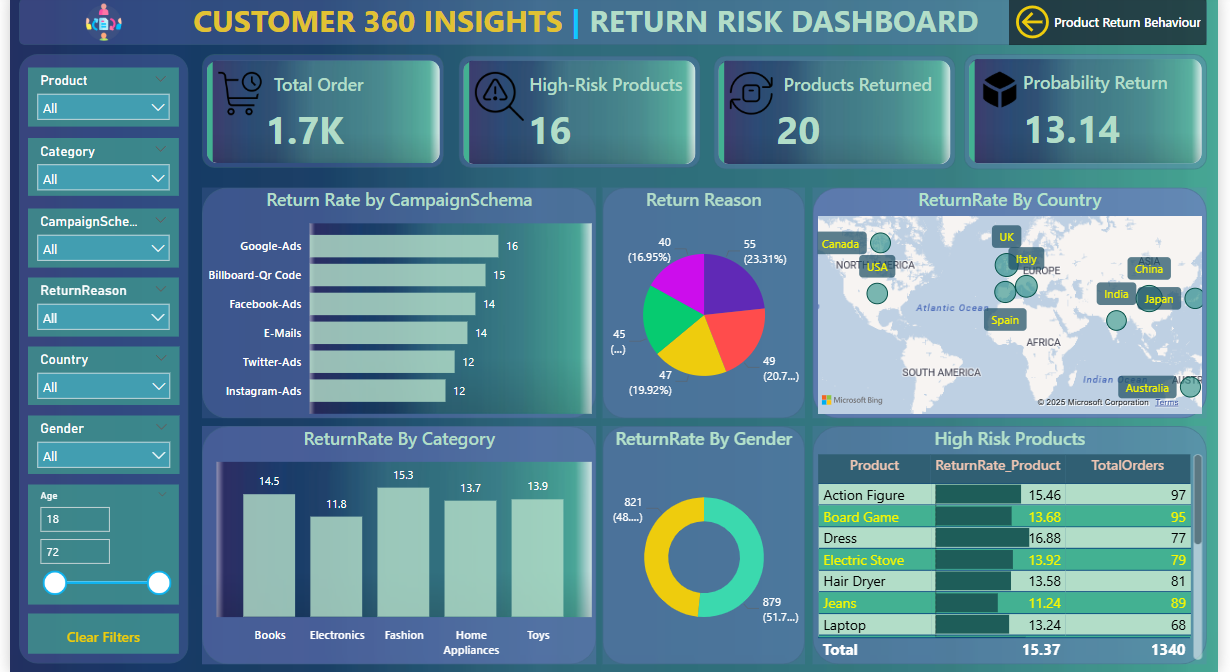

The dashboard page shown, as its layout file describes it:
{"tool":"powerbi","page":{"name":"Return Risk Summary Dashboard","canvas":[1280,720],"ordinal":0},"visuals":[{"type":"shape","box":[1011.6,64.3,257.7,122.5],"z":0,"group":"g1"},{"type":"shape","box":[9.9,64.3,179.8,646.6],"z":0},{"type":"shape","box":[745.7,65.7,256.7,120.9],"z":1000,"group":"g1"},{"type":"shape","box":[851,458.1,418.3,252.9],"z":1000},{"type":"shape","box":[476.2,65.7,256.7,119.3],"z":2000,"group":"g1"},{"type":"shape","box":[628.3,458.1,214.7,252.9],"z":2000},{"type":"shape","box":[203.6,64.1,256.7,120.9],"z":3000,"group":"g1"},{"type":"shape","box":[628.3,205.2,214.7,245],"z":3000},{"type":"cardVisual","fields":{"Data":["CountNonNull(High_Risk_Products.Product)"]},"box":[476.2,65.7,256.7,120.9],"z":4000,"group":"g1"},{"type":"shape","box":[851,205.2,418.3,245],"z":4000},{"type":"cardVisual","title":"Total Orders","fields":{"Data":["CountNonNull(Cleaned_Customer360Insights.Product)"]},"box":[204,65.2,257.5,119.8],"z":5000,"group":"g1"},{"type":"shape","box":[203.6,458.1,418.3,252.9],"z":5000},{"type":"cardVisual","fields":{"Data":["_Measures.Unique Products Returned"]},"box":[745.7,65.7,256.7,120.9],"z":6000,"group":"g1"},{"type":"shape","box":[203.6,205.2,418.3,245],"z":6000},{"type":"cardVisual","fields":{"Data":["_Measures.AvgPredictedReturn"]},"box":[1012,63.6,257.5,121.4],"z":7000,"group":"g1"},{"type":"shape","box":[9.5,4.8,1259.8,49.3],"z":7000},{"type":"clusteredBarChart","title":"Return Rate by CampaignSchema","fields":{"Category":["ReturnRate_By_Channel.CampaignSchema"],"Y":["Avg(ReturnRate_By_Channel.ReturnRate_Percent)"]},"box":[203.6,205.2,418.3,245],"z":8000},{"type":"map","title":"ReturnRate By Country","fields":{"Category":["ReturnRate_By_Geography.Country","ReturnRate_By_Geography.State"],"Size":["Avg(ReturnRate_By_Geography.ReturnRate_Percent)"]},"box":[851,205.2,418.3,245],"z":9000},{"type":"tableEx","title":" High Risk Products","fields":{"Values":["Cleaned_Customer360Insights.Product","Avg(Cleaned_Customer360Insights.ReturnRate_Product)","Cleaned_Customer360Insights.TotalOrders"]},"box":[851,458.1,418.3,252.9],"z":10000},{"type":"columnChart","title":" ReturnRate By Category","fields":{"Category":["ReturnRate_By_Category.Category"],"Y":["Avg(ReturnRate_By_Category.ReturnRate_Percent)"]},"box":[203.6,458.1,418.3,252.9],"z":11000},{"type":"pieChart","title":" Return Reason","fields":{"Category":["Cleaned_Customer360Insights.ReturnReason"],"Y":["CountNonNull(Cleaned_Customer360Insights.OrderReturn)"]},"box":[628.3,205.2,214.7,245],"z":12000},{"type":"actionButton","box":[1059,4.9,209.5,49.5],"z":13000},{"type":"slicer","fields":{"Values":["Cleaned_Customer360Insights.Category"]},"box":[19.8,153.4,160,61],"z":14000},{"type":"slicer","fields":{"Values":["Cleaned_Customer360Insights.CampaignSchema"]},"box":[19.8,227.6,160,62.7],"z":15000},{"type":"slicer","fields":{"Values":["Cleaned_Customer360Insights.Country"]},"box":[19.1,373.8,160.7,62],"z":16000},{"type":"slicer","fields":{"Values":["Cleaned_Customer360Insights.Gender"]},"box":[19.1,447,160.7,62],"z":17000},{"type":"donutChart","title":" ReturnRate By Gender","fields":{"Category":["Cleaned_Customer360Insights.Gender"],"Y":["CountNonNull(Cleaned_Customer360Insights.OrderReturn)"]},"box":[628.3,458.1,214.7,252.9],"z":18000},{"type":"textbox","box":[189.7,0,852.8,54.4],"z":19000},{"type":"slicer","fields":{"Values":["Cleaned_Customer360Insights.Product"]},"box":[19.8,77.5,160,62.7],"z":20000},{"type":"slicer","fields":{"Values":["Cleaned_Customer360Insights.ReturnReason"]},"box":[19.8,300.2,160,62.7],"z":21000},{"type":"actionButton","box":[19.8,656.5,160,42.9],"z":22000},{"type":"group","id":"g1","title":"Group 1","box":[203.6,63.6,1065.7,122.5],"z":23000},{"type":"image","box":[19.8,4.9,160,49.5],"z":24000},{"type":"slicer","fields":{"Values":["Cleaned_Customer360Insights.Age"]},"box":[19.8,519.6,160,127],"z":25000}]}

Visuals, with their boxes in screenshot pixels (x1, y1, x2, y2), scaled from the page's 1280x720 canvas onto the 1230x672 screenshot:
shape: crop(972, 60, 1220, 174)
shape: crop(10, 60, 182, 664)
shape: crop(717, 61, 963, 174)
shape: crop(818, 428, 1220, 664)
shape: crop(458, 61, 704, 173)
shape: crop(604, 428, 810, 664)
shape: crop(196, 60, 442, 173)
shape: crop(604, 192, 810, 420)
cardVisual - CountNonNull(High_Risk_Products.Product): crop(458, 61, 704, 174)
shape: crop(818, 192, 1220, 420)
"Total Orders" cardVisual: crop(196, 61, 443, 173)
shape: crop(196, 428, 598, 664)
cardVisual - _Measures.Unique Products Returned: crop(717, 61, 963, 174)
shape: crop(196, 192, 598, 420)
cardVisual - _Measures.AvgPredictedReturn: crop(972, 59, 1220, 173)
shape: crop(9, 4, 1220, 50)
"Return Rate by CampaignSchema" clusteredBarChart: crop(196, 192, 598, 420)
"ReturnRate By Country" map: crop(818, 192, 1220, 420)
" High Risk Products" tableEx: crop(818, 428, 1220, 664)
" ReturnRate By Category" columnChart: crop(196, 428, 598, 664)
" Return Reason" pieChart: crop(604, 192, 810, 420)
actionButton: crop(1018, 5, 1219, 51)
slicer - Cleaned_Customer360Insights.Category: crop(19, 143, 173, 200)
slicer - Cleaned_Customer360Insights.CampaignSchema: crop(19, 212, 173, 271)
slicer - Cleaned_Customer360Insights.Country: crop(18, 349, 173, 407)
slicer - Cleaned_Customer360Insights.Gender: crop(18, 417, 173, 475)
" ReturnRate By Gender" donutChart: crop(604, 428, 810, 664)
textbox: crop(182, 0, 1002, 51)
slicer - Cleaned_Customer360Insights.Product: crop(19, 72, 173, 131)
slicer - Cleaned_Customer360Insights.ReturnReason: crop(19, 280, 173, 339)
actionButton: crop(19, 613, 173, 653)
"Group 1" group: crop(196, 59, 1220, 174)
image: crop(19, 5, 173, 51)
slicer - Cleaned_Customer360Insights.Age: crop(19, 485, 173, 603)
